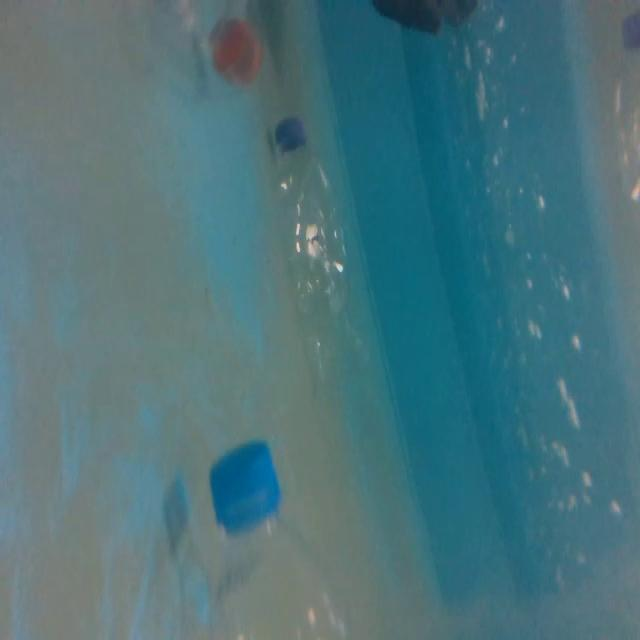plastic bottle: (193, 426, 363, 640), (265, 112, 375, 395)
